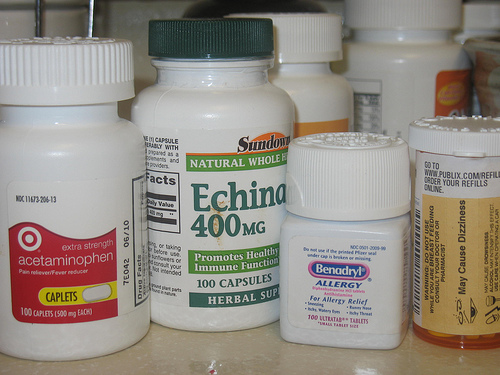pill bottle: (407, 113, 500, 353)
